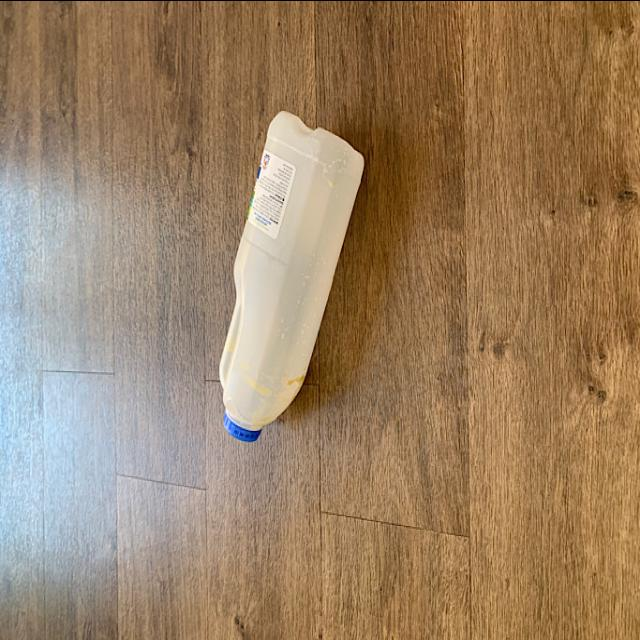litter: (207, 100, 371, 446)
